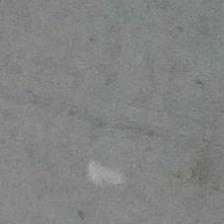Non_Crack: (23, 13, 206, 208)
